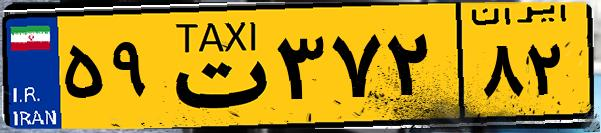2: (385, 28, 445, 110), (525, 38, 570, 115)
3: (270, 28, 330, 110)
5: (57, 26, 110, 100)
7: (330, 28, 385, 110)
8: (475, 38, 525, 113)
9: (110, 28, 158, 98)
ت: (158, 12, 270, 120)
